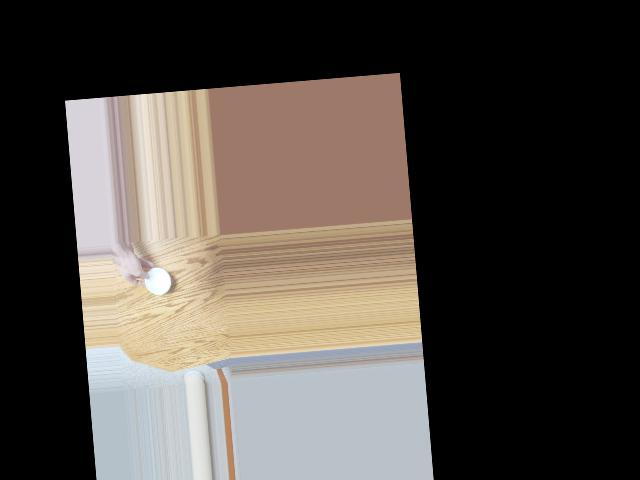cotage: (138, 259, 172, 296)
